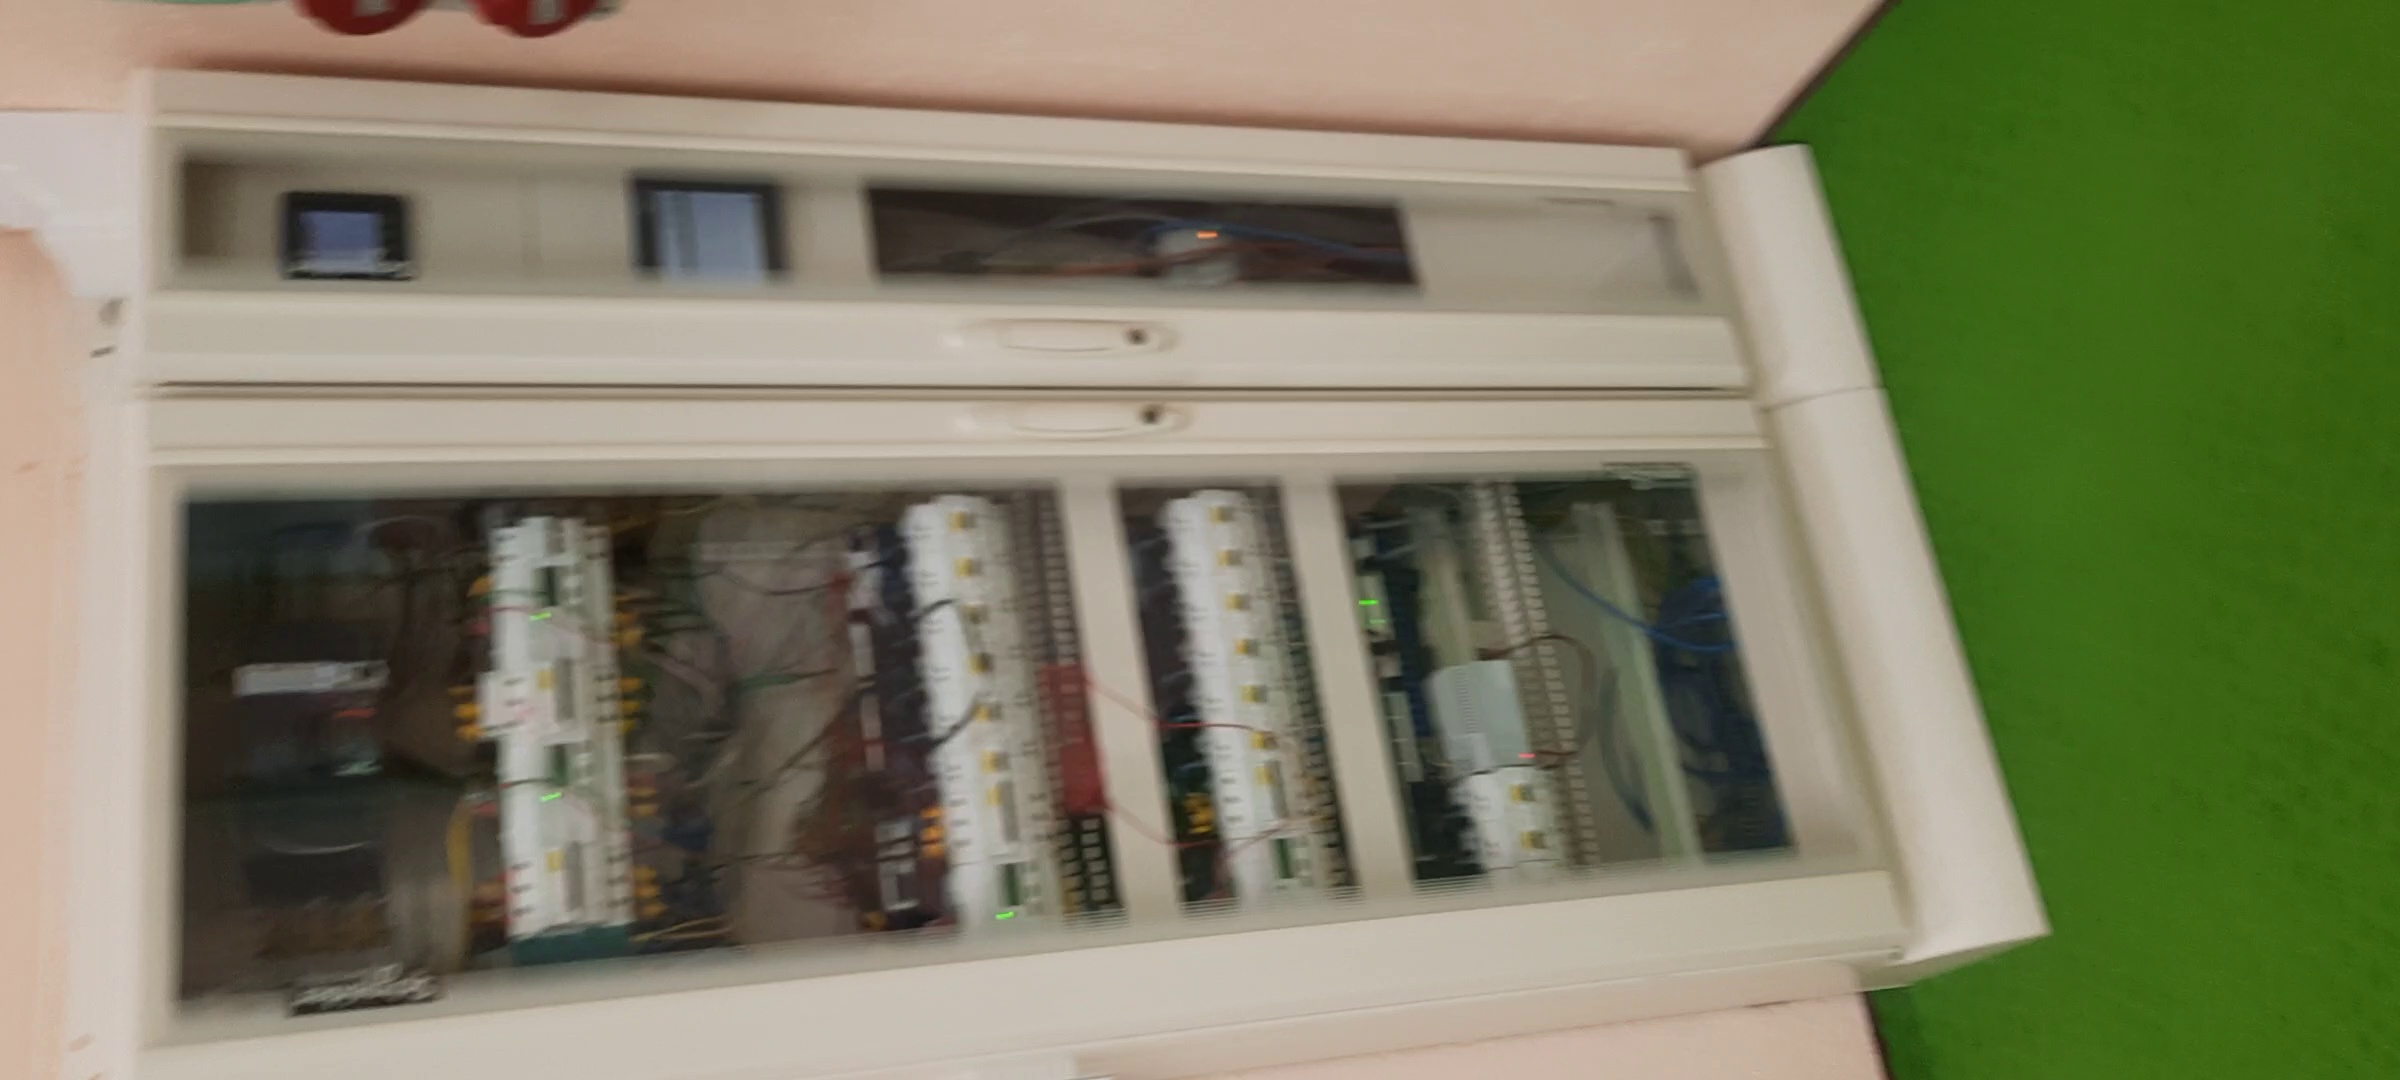stand1: (113, 86, 1944, 1039)
